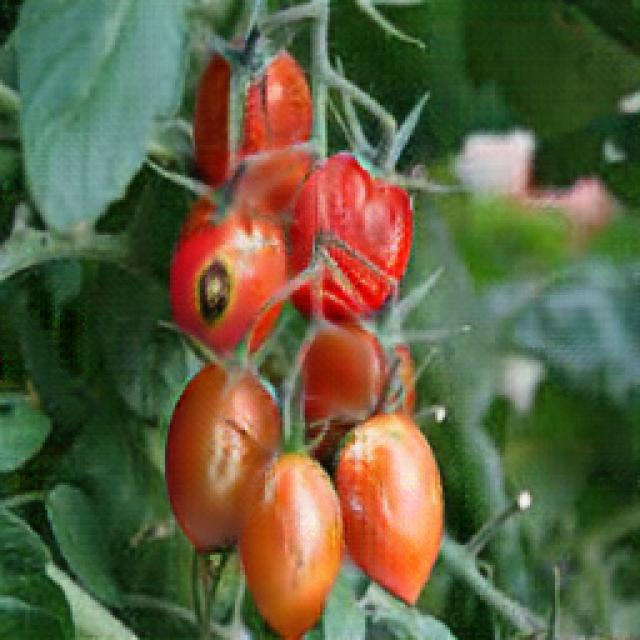overripe tomato: (339, 413, 452, 613), (247, 458, 351, 636), (166, 204, 296, 340), (296, 158, 408, 314)
